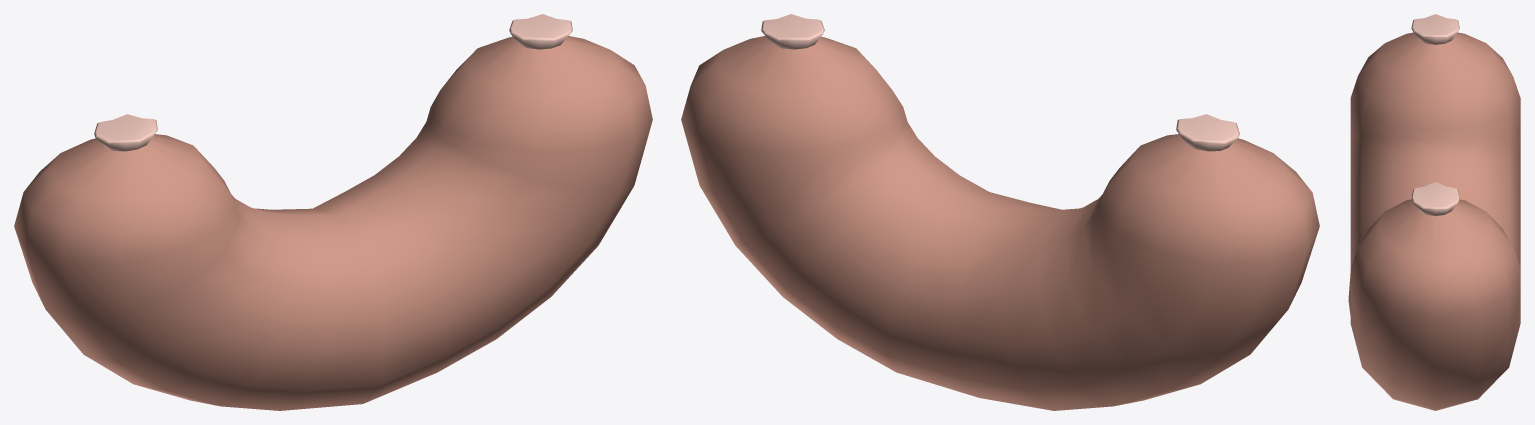
Rendered from Sausage_mini.fbx.
The picture shows the model from 3 angles, left to right: view 1: azimuth 30°, elevation 25°; view 2: azimuth 150°, elevation 25°; view 3: azimuth 270°, elevation 25°; orthographic projection. The views are drawn at different scales.
Visible parts, largest first — view 1: Sausage_mini; view 2: Sausage_mini; view 3: Sausage_mini.
Boxes of the visible parts, x1,y1,x2,y2 form: Sausage_mini: (14,14,652,410); Sausage_mini: (681,14,1319,410); Sausage_mini: (1348,14,1520,410).
Size of the model in its own units: 123 by 35.62 by 61.27.
